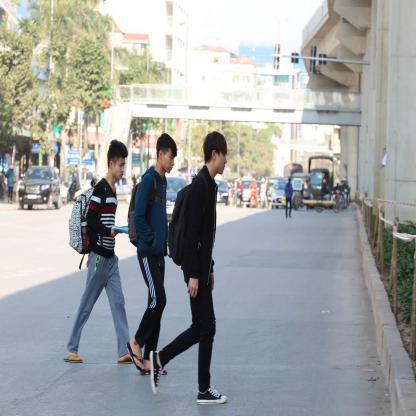person: (171, 130, 230, 411), (81, 138, 131, 370), (137, 132, 179, 376)
